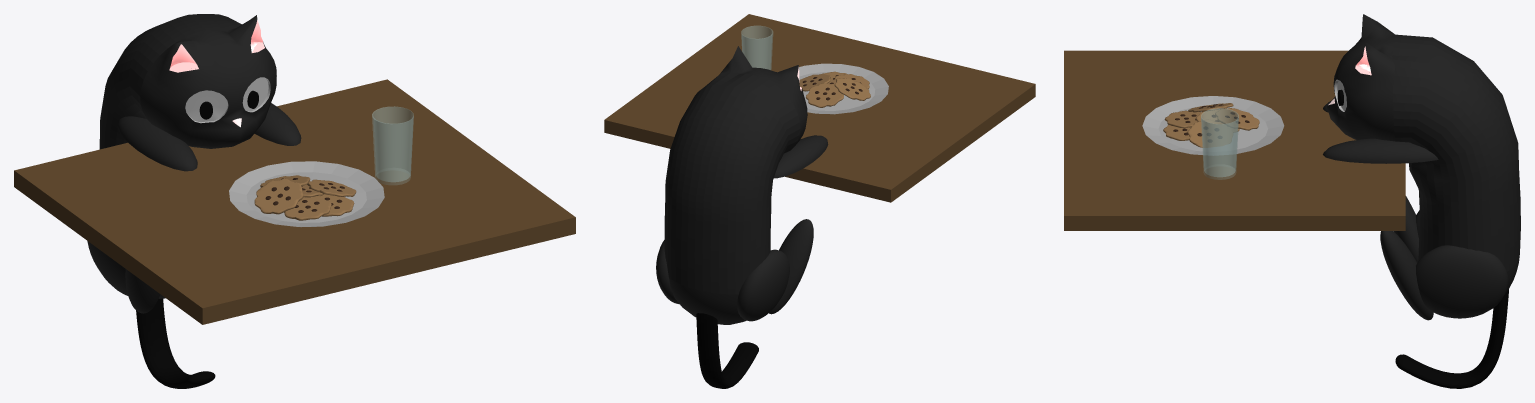
File: cattableV2.glb
3 renders of one model, left to right at view 1: azimuth 30°, elevation 25°; view 2: azimuth 150°, elevation 25°; view 3: azimuth 270°, elevation 25°, orthographic. The views are drawn at different scales.
Parts seen in each view (by area): view 1: pCube1, pCone2, pCylinder3, polySurface5, cookie5, cookie1, cookie3, cookie; view 2: pCone2, pCube1, pCylinder3, polySurface5, cookie4, cookie5; view 3: pCube1, pCone2, pCylinder3, polySurface5, cookie3, cookie4, cookie1.
Part boxes in pixels (x1,y1,x2,y2): pCube1: (14, 79, 575, 324); pCone2: (87, 14, 301, 388); pCylinder3: (229, 161, 384, 227); polySurface5: (372, 106, 413, 184); cookie5: (254, 178, 302, 214); cookie1: (284, 196, 331, 220); cookie3: (307, 179, 356, 196); cookie: (319, 194, 354, 216); pCone2: (656, 46, 828, 388); pCube1: (604, 14, 1035, 202); pCylinder3: (799, 63, 888, 114); polySurface5: (741, 25, 773, 69); cookie4: (806, 83, 843, 107); cookie5: (834, 78, 870, 100); pCube1: (1064, 50, 1405, 230); pCone2: (1323, 14, 1520, 388); pCylinder3: (1142, 96, 1284, 155); polySurface5: (1201, 108, 1238, 179); cookie3: (1187, 119, 1232, 147); cookie4: (1215, 108, 1259, 130); cookie1: (1164, 110, 1200, 128).
Size of the model in its own units: 0.0386 by 0.0392 by 0.0451.
